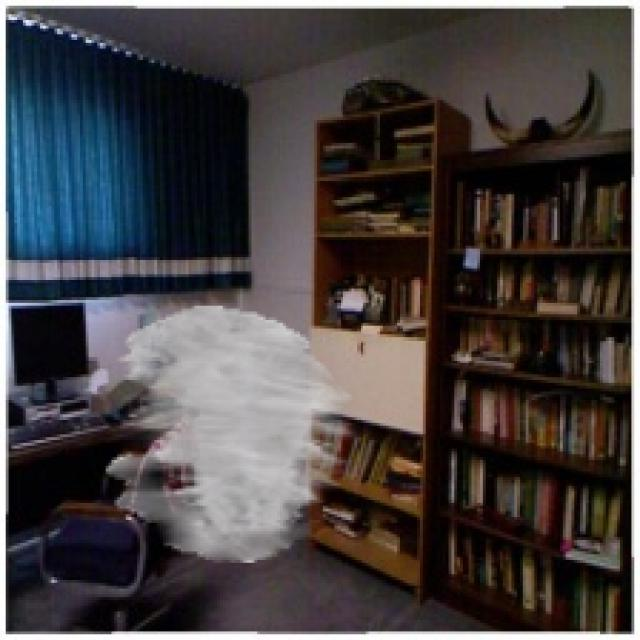smoke: (106, 306, 357, 563)
